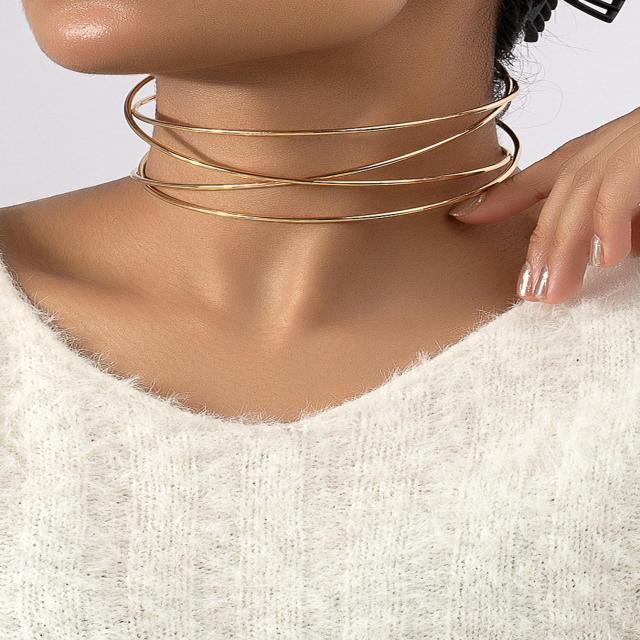Nail: (450, 189, 485, 217), (512, 257, 535, 298), (533, 267, 551, 299), (590, 236, 601, 266)
